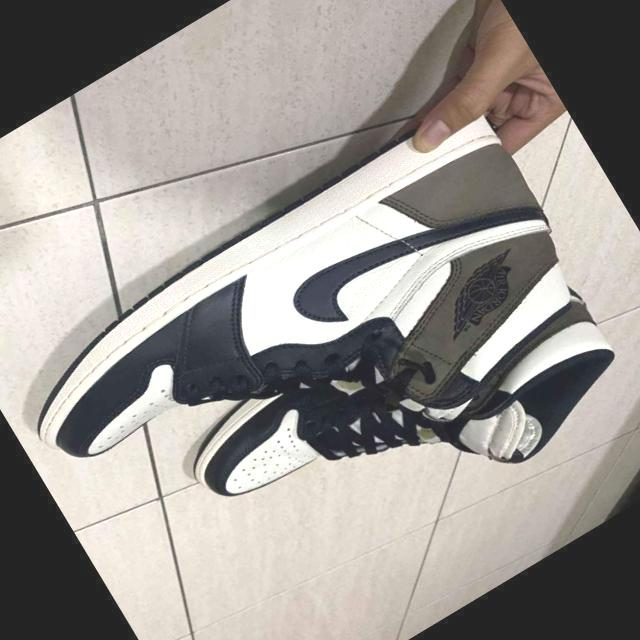nike_original_jordan: (1, 97, 606, 604), (176, 224, 640, 615)
